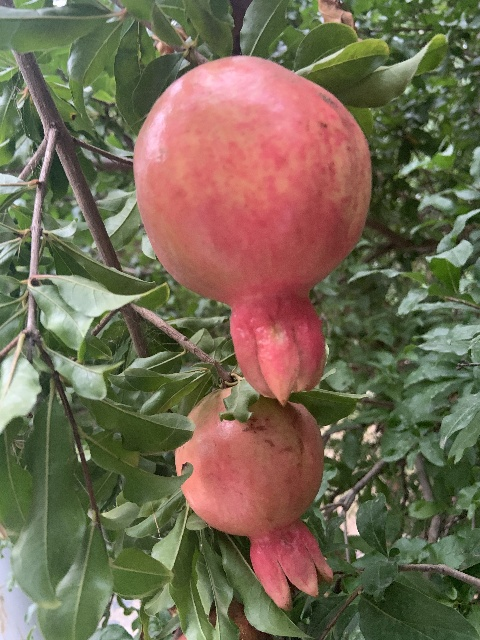ripe: (134, 54, 370, 407), (173, 388, 332, 610)
